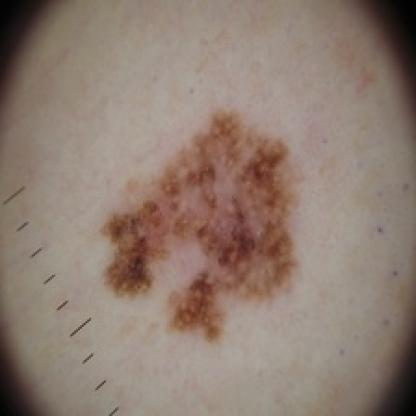Skin_Cancer-Malignant: (99, 111, 302, 344)
